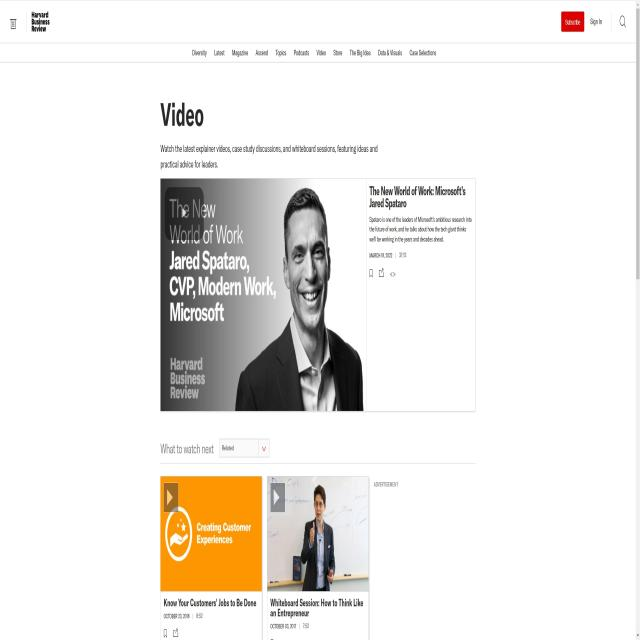content: (366, 180, 476, 411)
menu-bar: (556, 5, 629, 40)
tab-bar: (189, 41, 437, 62)
